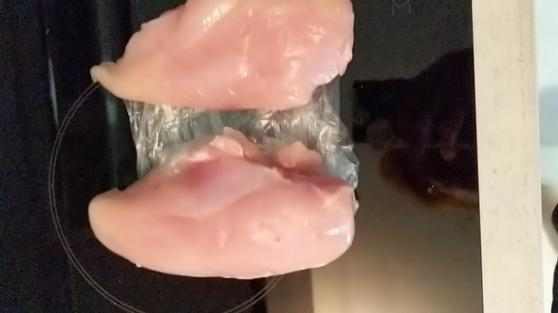chicken_fillet: (92, 127, 356, 278), (89, 1, 360, 108)
